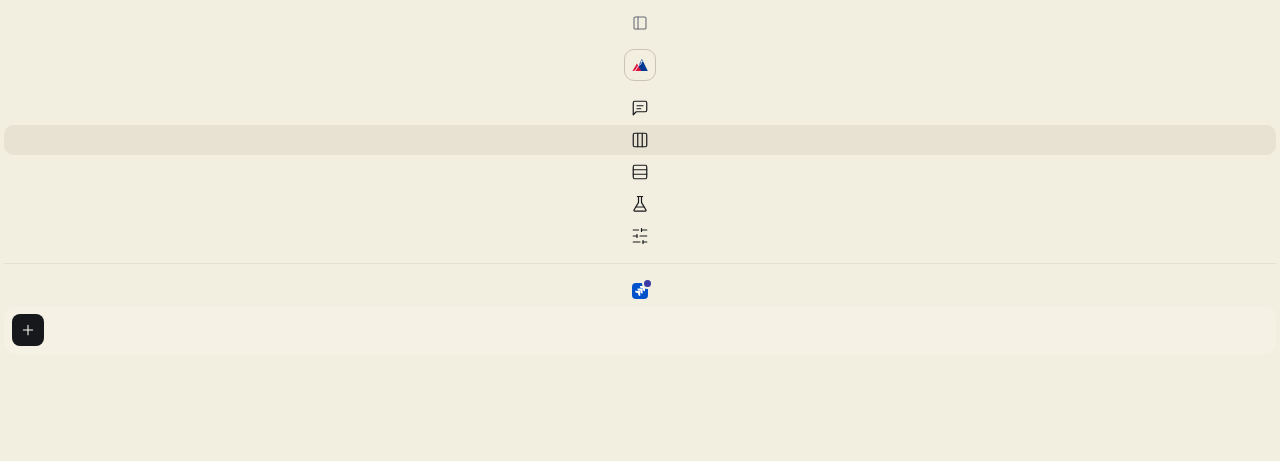
the fold › puts the number a rail tile cannot show on the hover card
Hover over the button named "OMNI-1".
mouse_move(640, 291)  # box x1=624 y1=276 x2=656 y2=306
Wait 120 ms
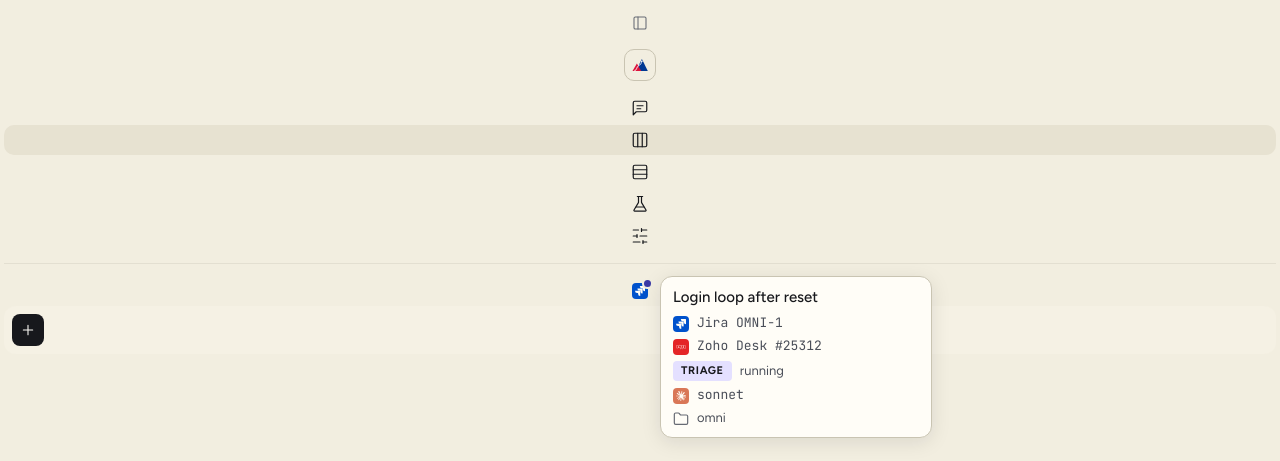
Result: the list item with class "sd-session-card__row" reads "Jira OMNI-1" at x1=697 y1=314 x2=783 y2=331
Result: the list item with class "sd-session-card__row" reads "Zoho Desk #25312" at x1=697 y1=337 x2=822 y2=354
